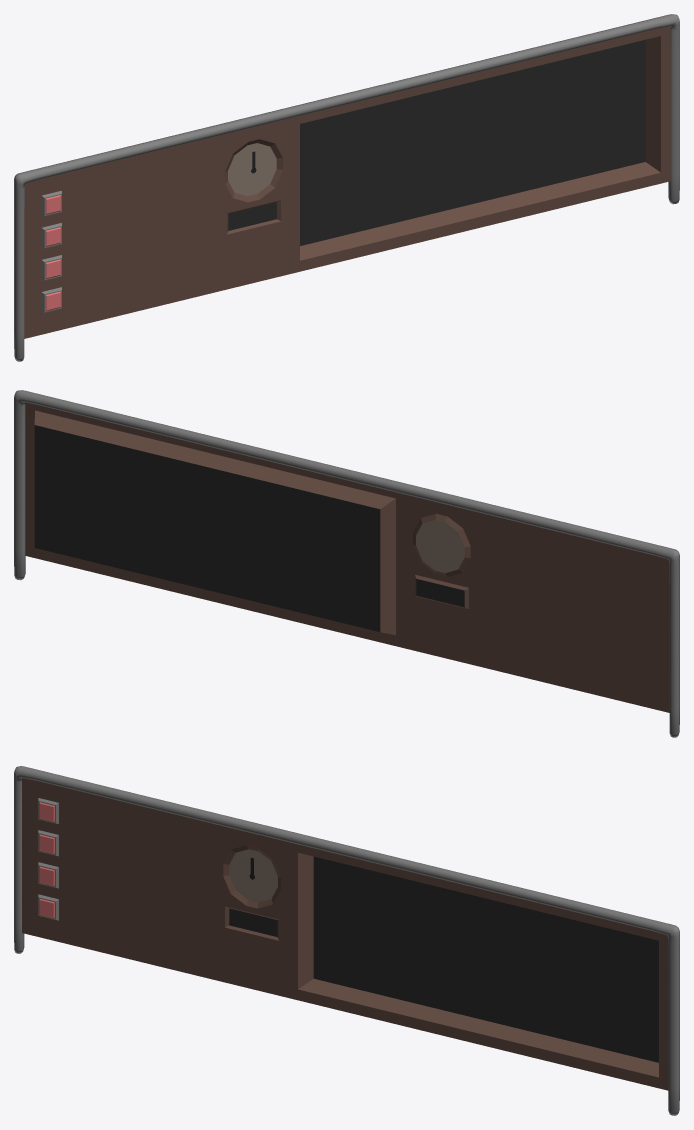
The model's file is dashboard.glb.
3 renders of one model, top to bottom at view 1: azimuth 30°, elevation 25°; view 2: azimuth 150°, elevation 25°; view 3: azimuth 330°, elevation 25°, orthographic.
Visible parts, largest first — view 1: Dashboard, Border; view 2: Dashboard, Border; view 3: Dashboard, Border.
Part boxes in pixels (bbox=[...]): Dashboard: bbox=[24, 26, 670, 338]; Border: bbox=[14, 14, 679, 361]; Dashboard: bbox=[25, 402, 669, 712]; Border: bbox=[14, 390, 679, 737]; Dashboard: bbox=[22, 778, 668, 1090]; Border: bbox=[14, 766, 679, 1115].
Size of the model in its own units: 649 by 176 by 17.37.
